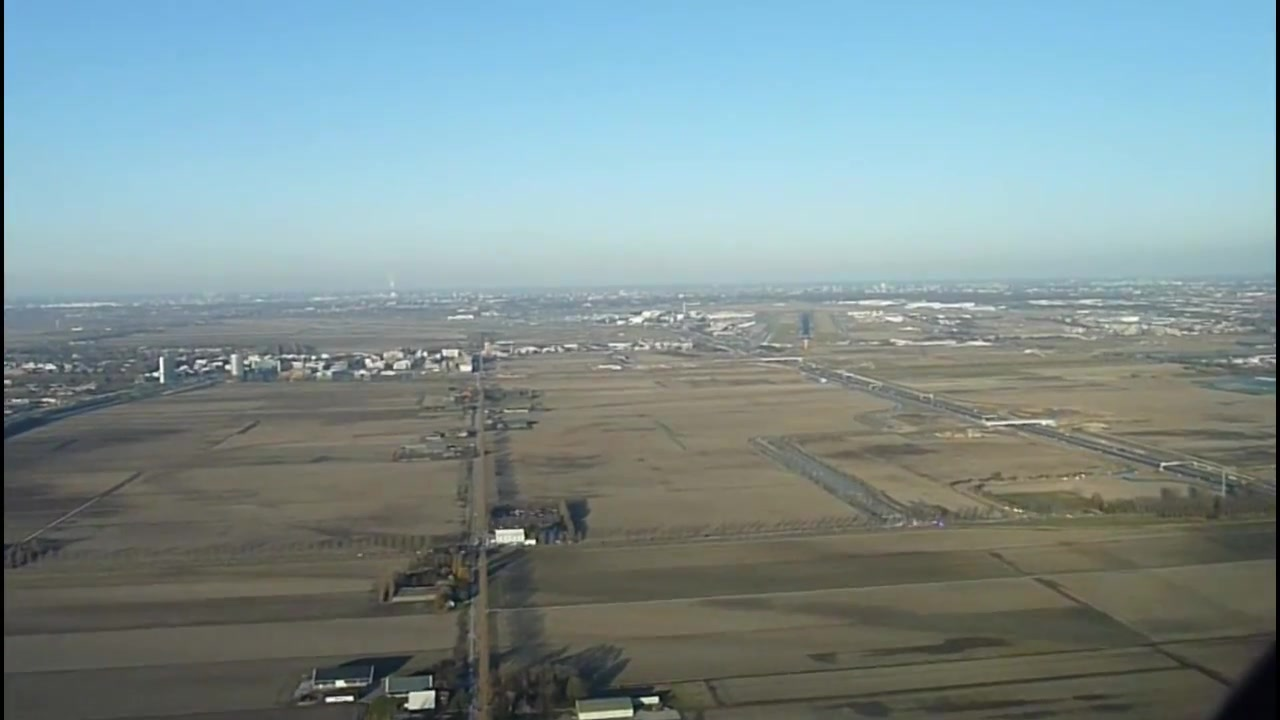runway: (797, 311, 813, 341)
